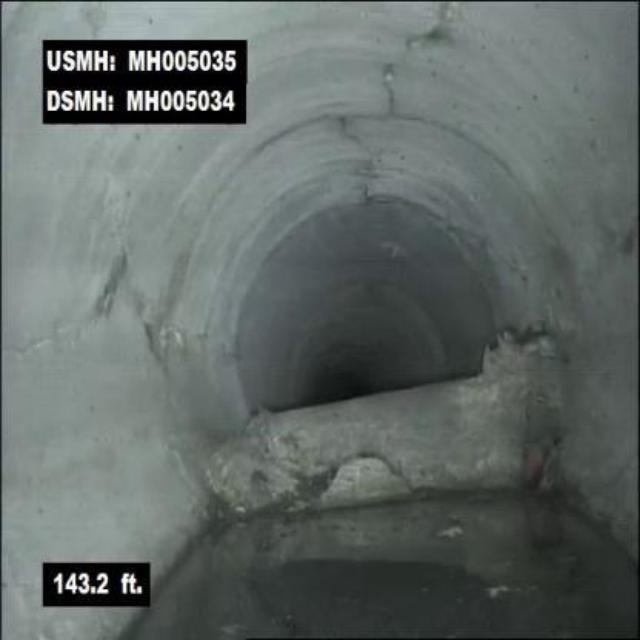Crack: (371, 0, 480, 117), (120, 248, 171, 378), (5, 314, 85, 363), (340, 117, 382, 178)
Utility intrusion: (232, 362, 572, 517)
